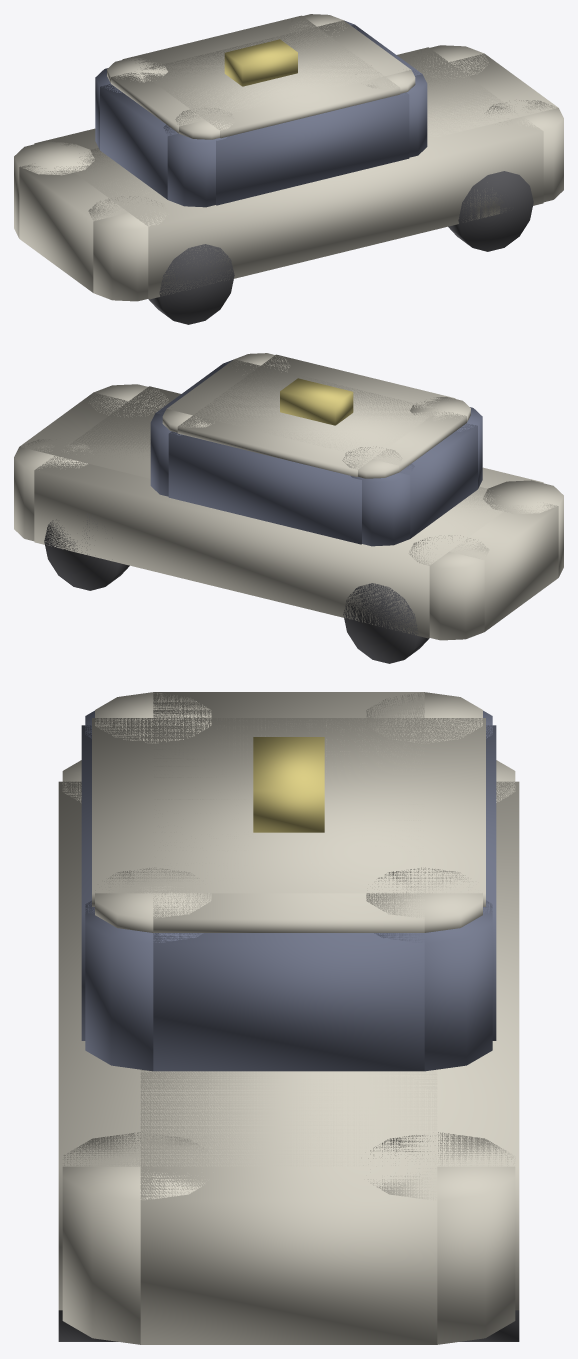
Rendered from car_taxi.glb.
The picture shows the model from 3 angles, top to bottom: view 1: azimuth 30°, elevation 25°; view 2: azimuth 150°, elevation 25°; view 3: azimuth 270°, elevation 25°; orthographic projection. The views are drawn at different scales.
Visible parts, largest first — view 1: car_taxi; view 2: car_taxi; view 3: car_taxi.
Part boxes in pixels (bbox=[...]): car_taxi: bbox=[14, 14, 563, 324]; car_taxi: bbox=[14, 353, 563, 663]; car_taxi: bbox=[58, 692, 519, 1344].
Size of the model in its own units: 4.2 by 1.71 by 1.8.
